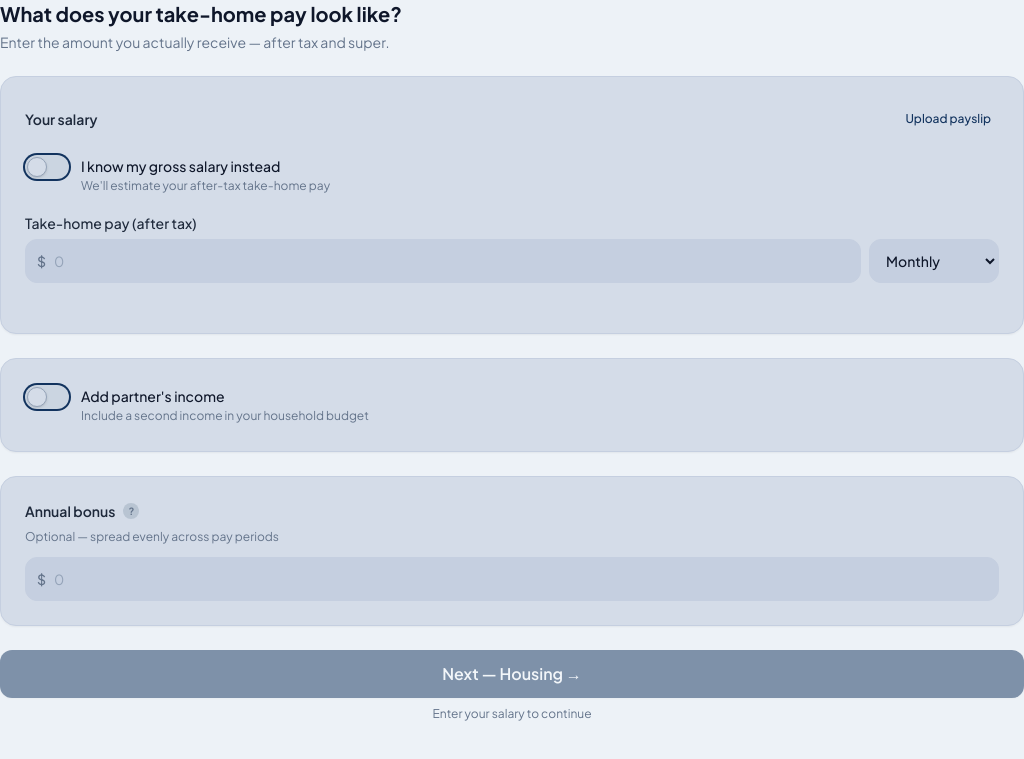
Scenario: StepIncome — partner salary toggle › enabling partner toggle reveals the partner section
Click the checkbox labelled "partner": (197, 404) [25,385,369,423]
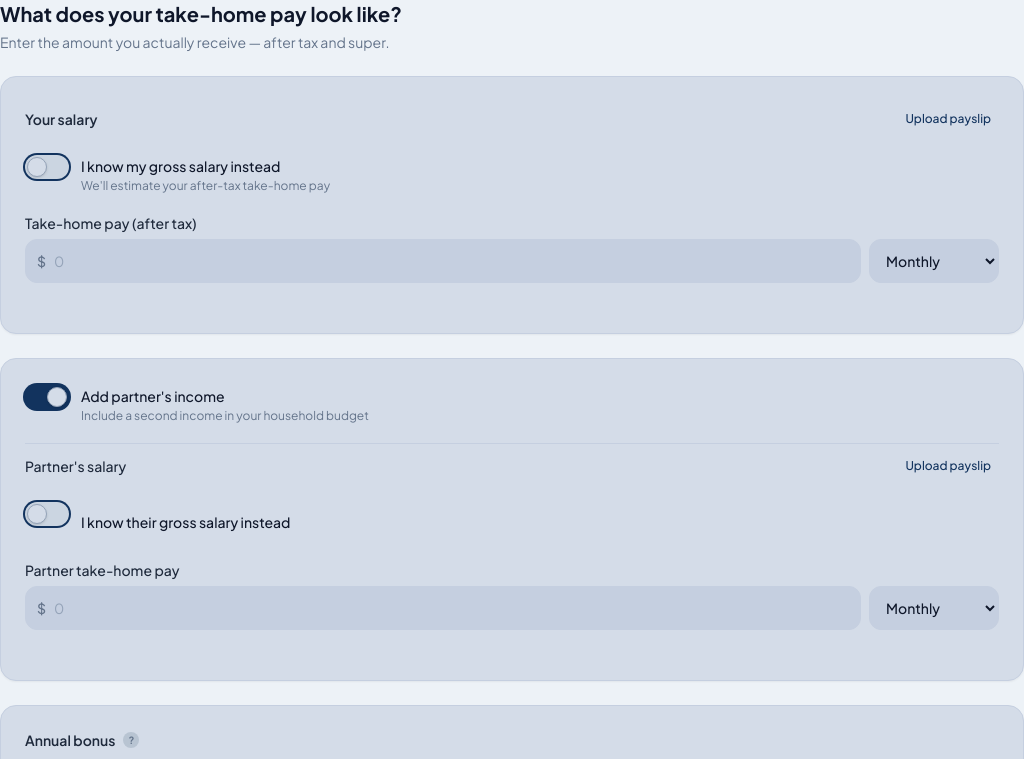
Now the element with test id "partner-section" is shown, box [25,443,999,656]
